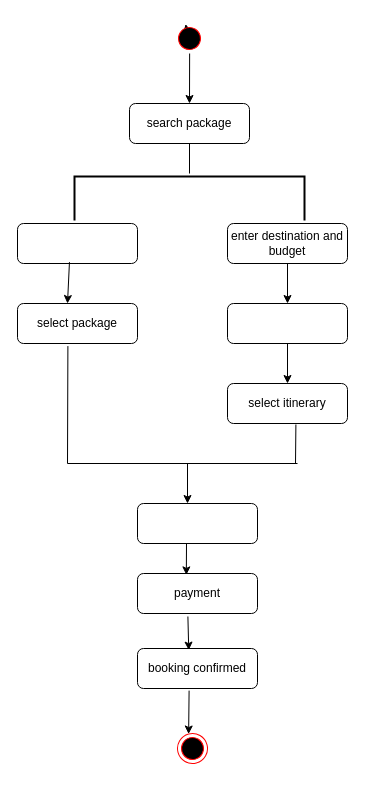
The diagram is 365 pixels wide and 785 high, and some of its shapes have lost their labels. Here are the shapes that lost their labels. From the top down, the centre of each, then its label:
(77,243): view package
(287,323): customize itinerary
(197,523): Booking
